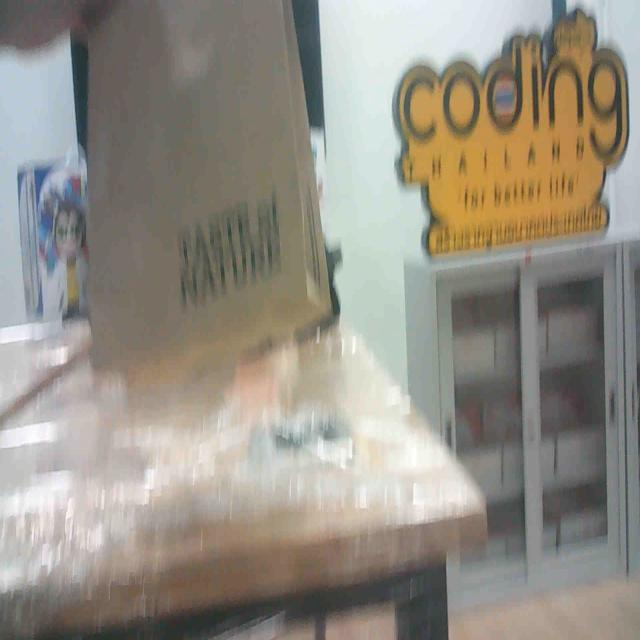bag: (74, 0, 330, 355)
